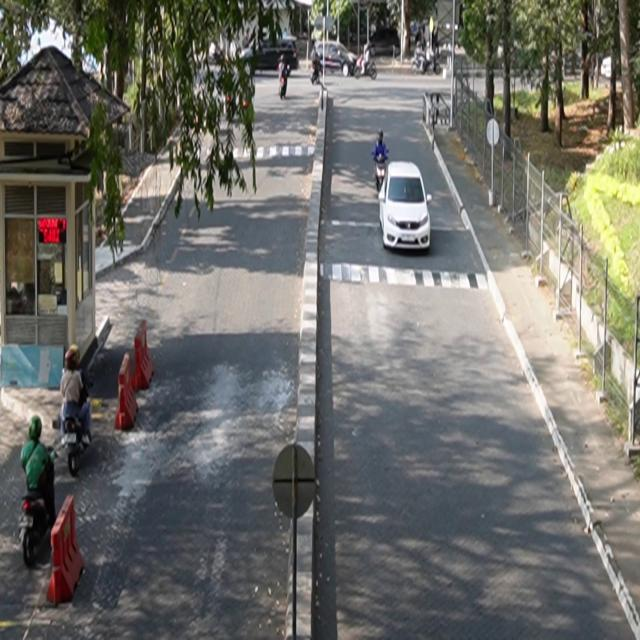car: (379, 161, 433, 252)
